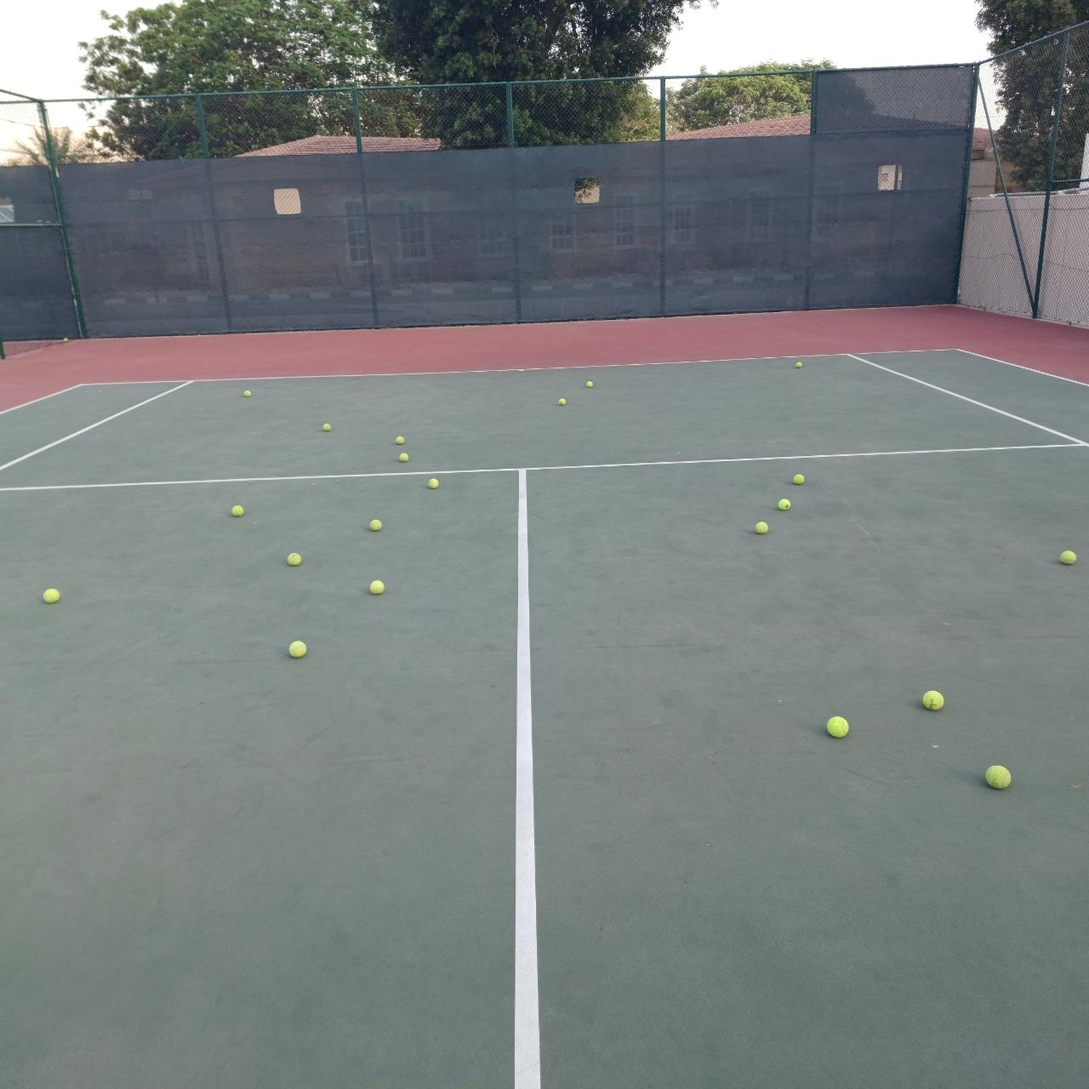tennis-ball: (984, 764, 1012, 790), (826, 715, 851, 740), (921, 689, 946, 712), (288, 638, 306, 658), (41, 585, 60, 603), (1060, 550, 1078, 566), (368, 578, 385, 594), (288, 553, 301, 567), (755, 522, 768, 535), (778, 498, 791, 511), (231, 505, 244, 517), (369, 520, 382, 531), (793, 474, 805, 485), (428, 478, 439, 489), (399, 453, 409, 462), (395, 436, 405, 445), (322, 424, 332, 431), (558, 398, 566, 406), (243, 390, 251, 397), (586, 381, 593, 388), (796, 362, 802, 368)
